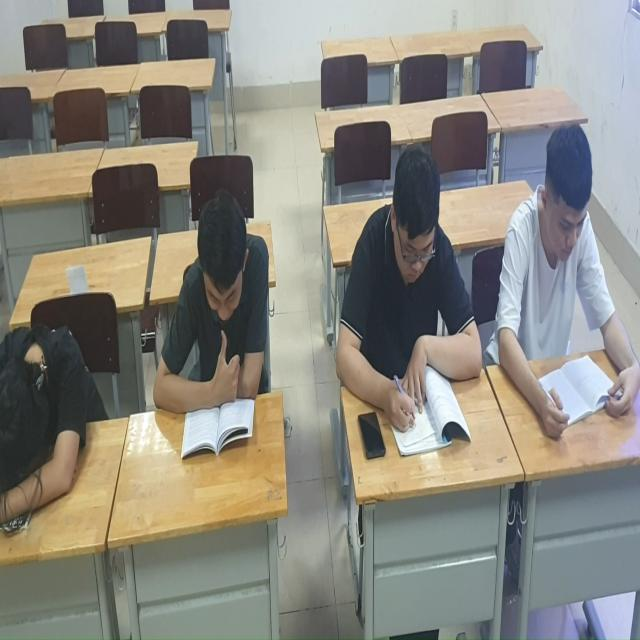read: (499, 112, 640, 451), (345, 140, 491, 467), (167, 149, 275, 470)
sleep: (1, 295, 101, 524)
